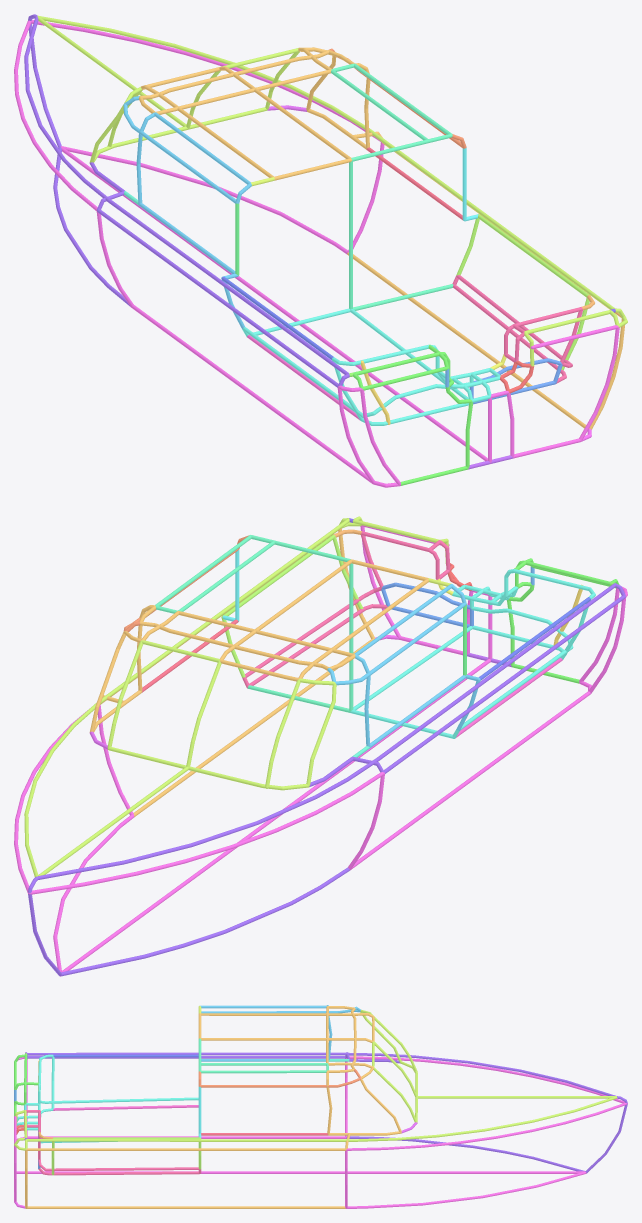
Rendered from flowrep_boat.gltf.
3 views of the same model, one above another, from view 1: azimuth 30°, elevation 25°; view 2: azimuth 150°, elevation 25°; view 3: azimuth 270°, elevation 25° (orthographic). The views are drawn at different scales.
Size of the model in its own units: 0.3317 by 0.2249 by 0.9225.
